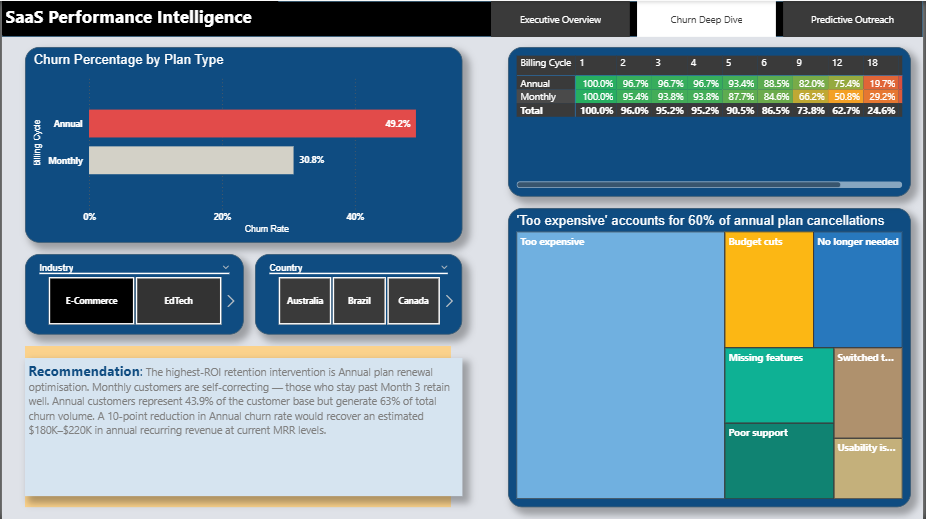

The page's visual inventory and layout, read from the dashboard file:
{"tool":"powerbi","page":{"name":"Churn Deep Dive","canvas":[1280,720],"ordinal":1},"visuals":[{"type":"clusteredBarChart","title":"Churn Percentage by Plan Type","fields":{"Category":["customers.billing_cycle"],"Y":["customers.Churn_Rate"]},"box":[32,64,608,272],"z":0},{"type":"treemap","title":"''Too expensive'' accounts for 60% of annual plan cancellations","fields":{"Group":["customers.cancel_reason"],"Values":["CountNonNull(customers.customer_id)"]},"box":[704,288,560,416],"z":1000},{"type":"slicer","fields":{"Values":["customers.industry"]},"box":[32,352,304,112],"z":2000},{"type":"slicer","fields":{"Values":["customers.country"]},"box":[352,352,288,112],"z":3000},{"type":"shape","box":[0,0,1280,50],"z":4000},{"type":"pageNavigator","box":[680,0,600,50],"z":5000},{"type":"textbox","box":[64,0,384,48],"z":6000},{"type":"pivotTable","fields":{"Rows":["customers.billing_cycle"],"Columns":["Retention_Months.Month_Number"],"Values":["Retention_Months.Retention_Rate"]},"box":[704,64,560,208],"z":7000},{"type":"shape","box":[32,480,592,224],"z":8000},{"type":"textbox","box":[32,496,608,192],"z":9000}]}

Visuals, with their boxes in screenshot pixels (x1, y1, x2, y2), scaled from the page's 1280x720 canvas onto the 926x519 screenshot:
"Churn Percentage by Plan Type" clusteredBarChart: {"left": 23, "top": 46, "right": 463, "bottom": 242}
"''Too expensive'' accounts for 60% of annual plan cancellations" treemap: {"left": 509, "top": 208, "right": 914, "bottom": 507}
slicer - customers.industry: {"left": 23, "top": 254, "right": 243, "bottom": 334}
slicer - customers.country: {"left": 255, "top": 254, "right": 463, "bottom": 334}
shape: {"left": 0, "top": 0, "right": 925, "bottom": 36}
pageNavigator: {"left": 492, "top": 0, "right": 925, "bottom": 36}
textbox: {"left": 46, "top": 0, "right": 324, "bottom": 35}
pivotTable - customers.billing_cycle x Retention_Months.Month_Number: {"left": 509, "top": 46, "right": 914, "bottom": 196}
shape: {"left": 23, "top": 346, "right": 451, "bottom": 507}
textbox: {"left": 23, "top": 358, "right": 463, "bottom": 496}
